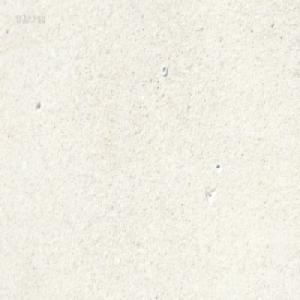Washer: (161, 65, 167, 76)
